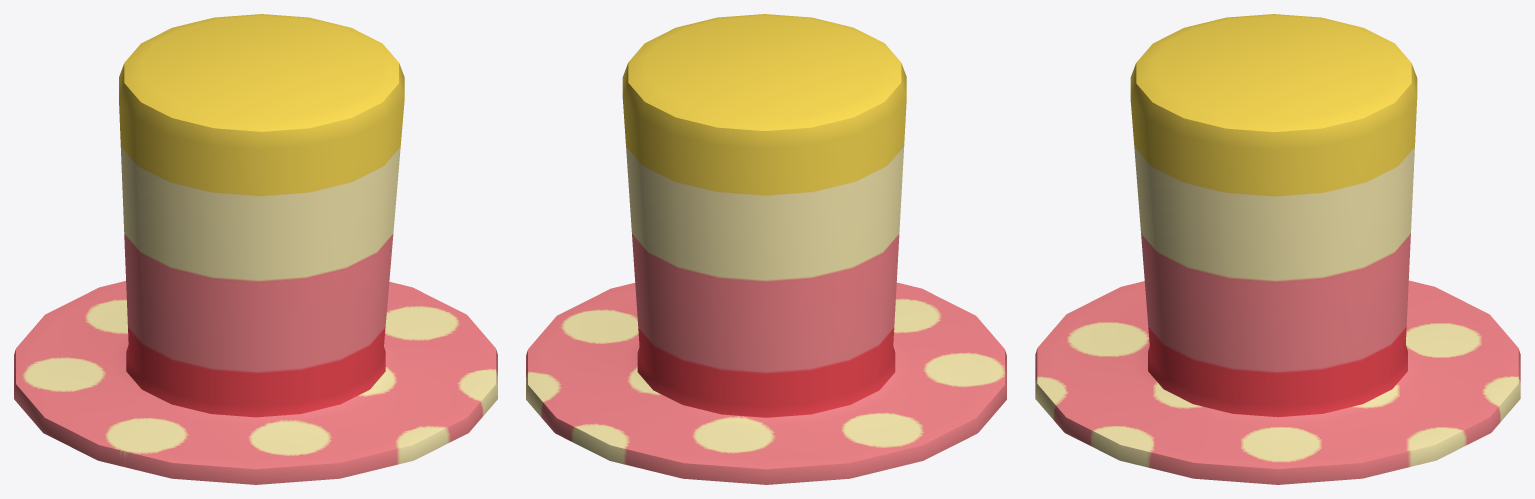
File: M_hat.fbx
3 views of the same model, side by side, from view 1: azimuth 30°, elevation 25°; view 2: azimuth 150°, elevation 25°; view 3: azimuth 270°, elevation 25° (orthographic).
Parts seen in each view (by area): view 1: hat; view 2: hat; view 3: hat.
Part boxes in pixels (left/top/right/bottom): hat: left=14, top=14, right=497, bottom=484; hat: left=526, top=14, right=1006, bottom=484; hat: left=1035, top=14, right=1520, bottom=484.
Size of the model in its own units: 65.35 by 46.05 by 64.36.
